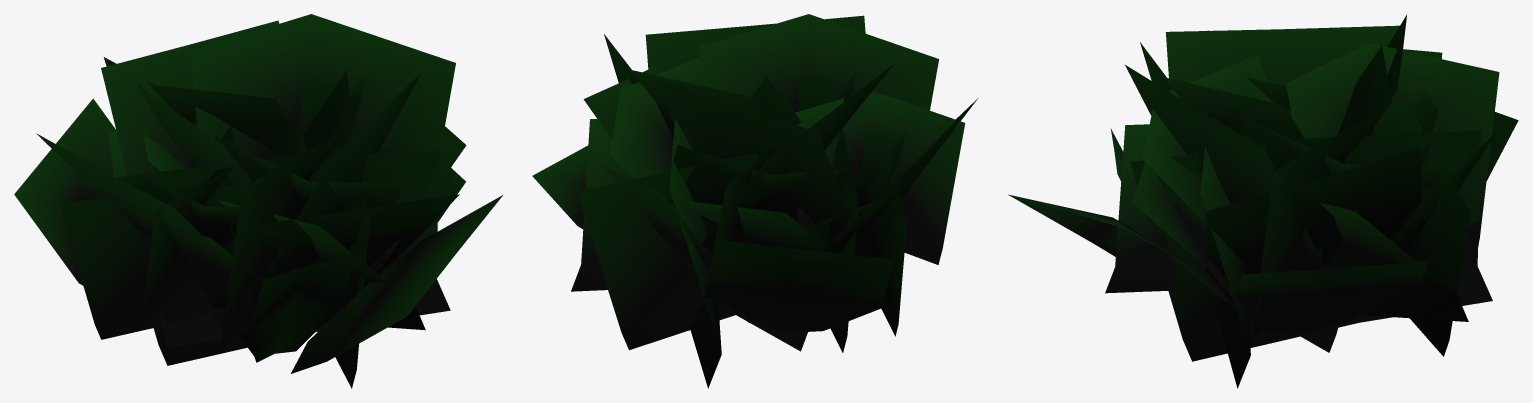
File: SimpleGrassClumpRHEP_A.fbx
3 views of the same model, side by side, from view 1: azimuth 30°, elevation 25°; view 2: azimuth 150°, elevation 25°; view 3: azimuth 270°, elevation 25° (orthographic). The views are drawn at different scales.
Visible parts, largest first — view 1: SGCRHEP-A_LOD0; view 2: SGCRHEP-A_LOD0; view 3: SGCRHEP-A_LOD0.
Boxes of the visible parts, bbox=[...] form: SGCRHEP-A_LOD0: bbox=[14, 14, 502, 388]; SGCRHEP-A_LOD0: bbox=[532, 14, 977, 388]; SGCRHEP-A_LOD0: bbox=[1008, 14, 1518, 388].
Size of what is drawn, in the model's own units: 2.38 by 1.76 by 2.83.
